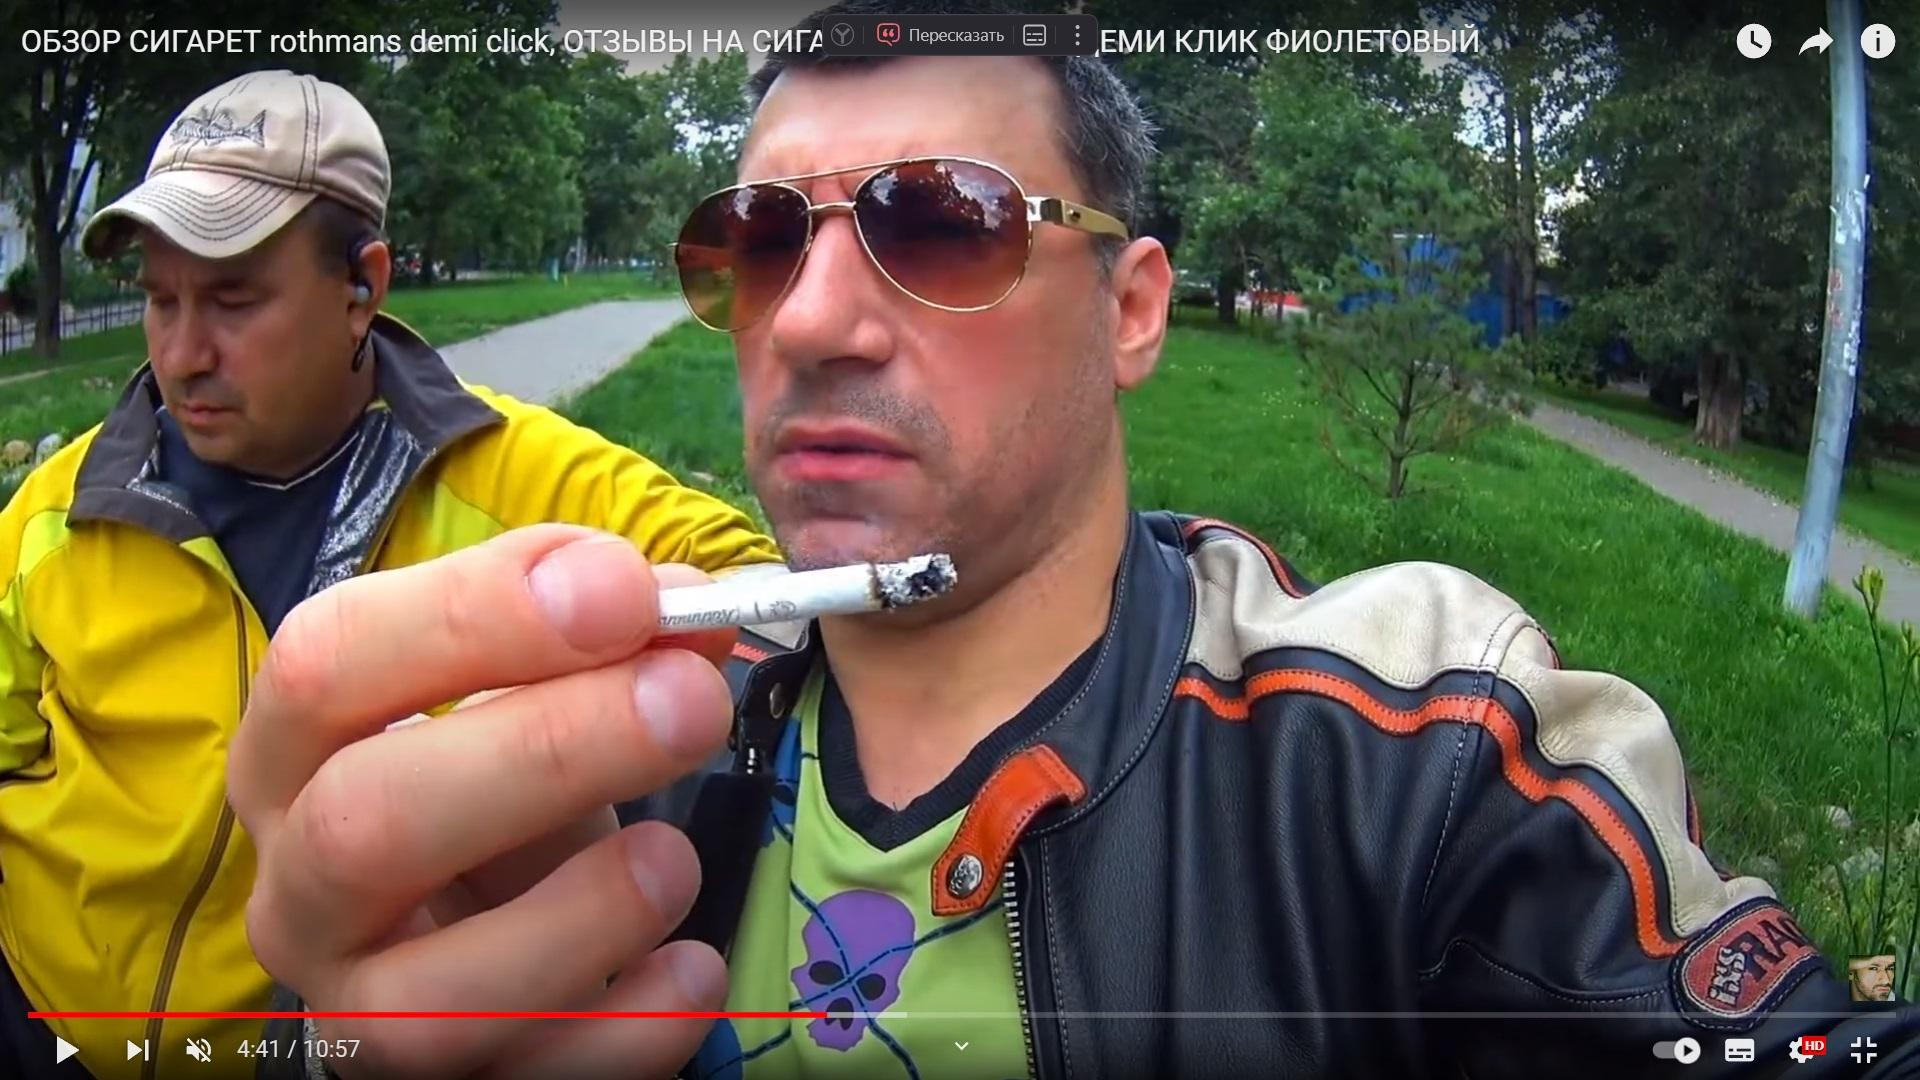cigarette: (657, 555, 957, 632)
